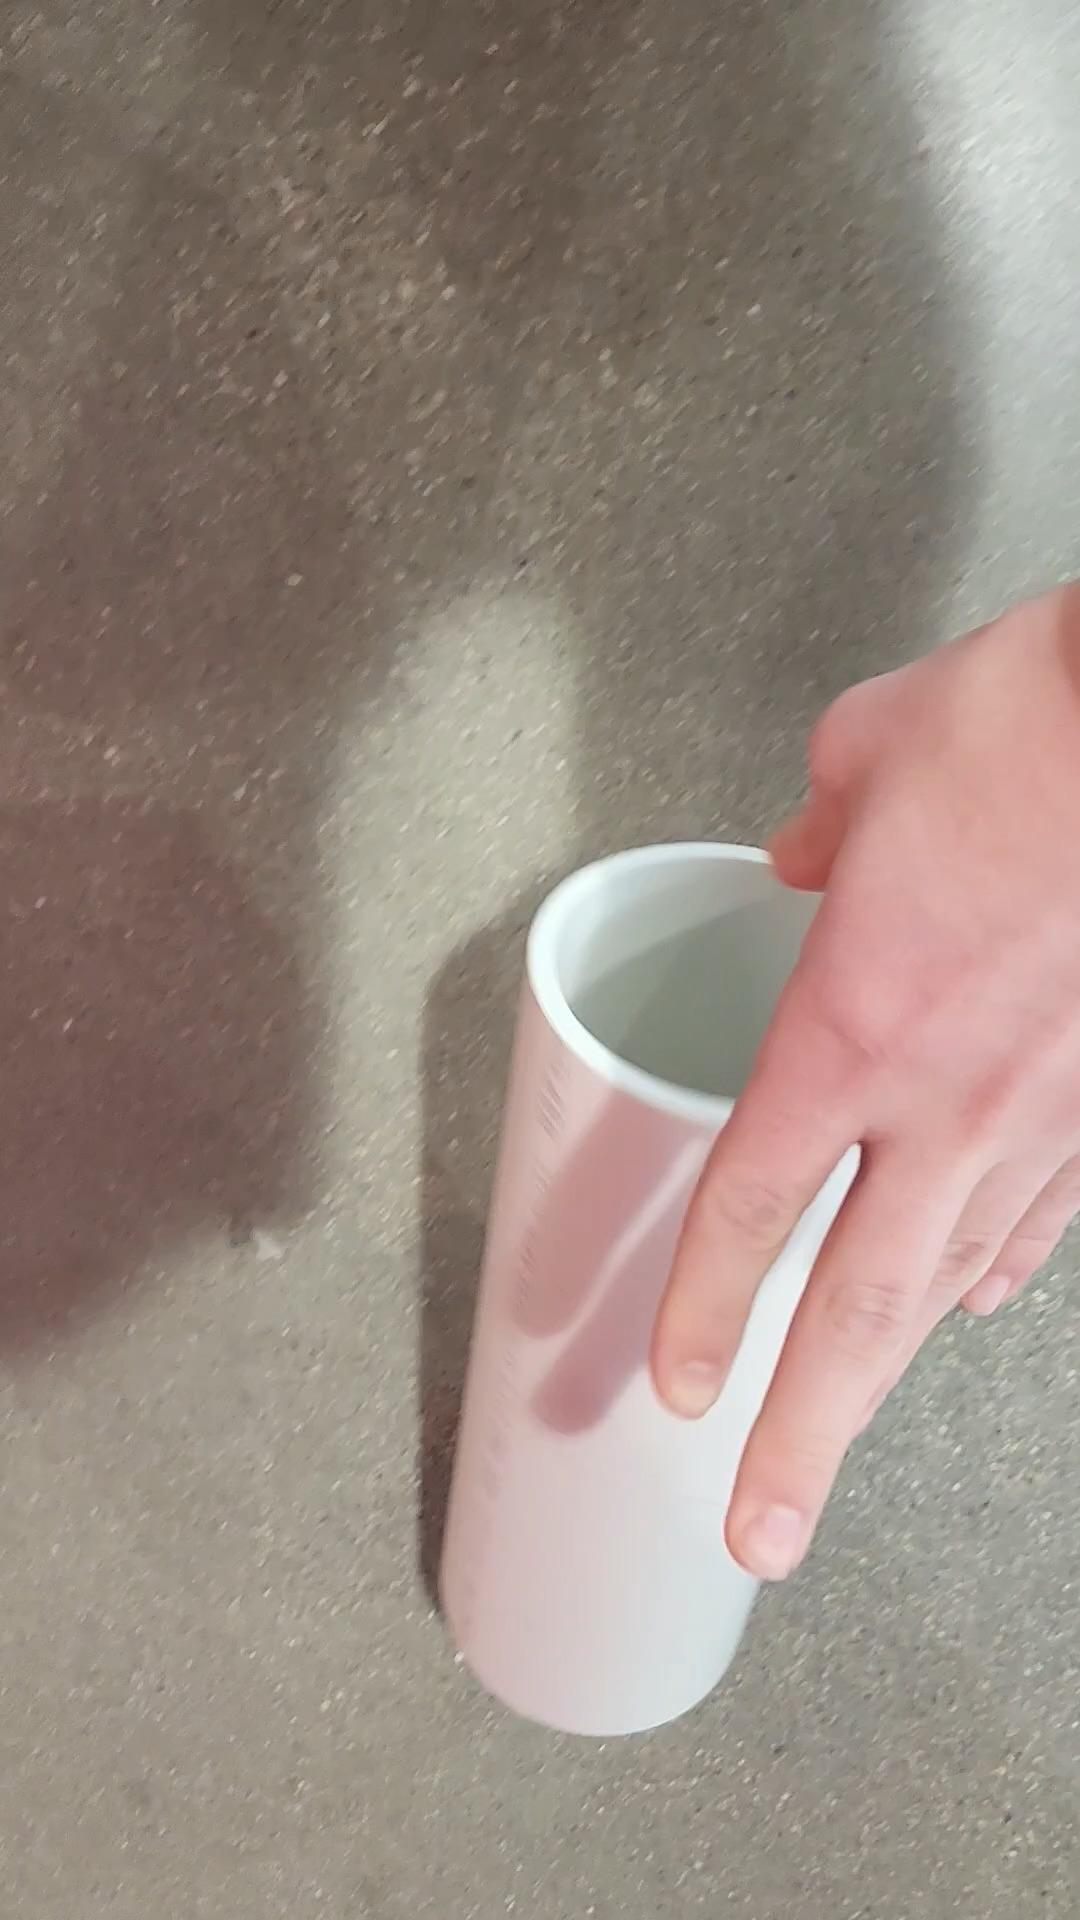coral: (440, 843, 870, 1738)
